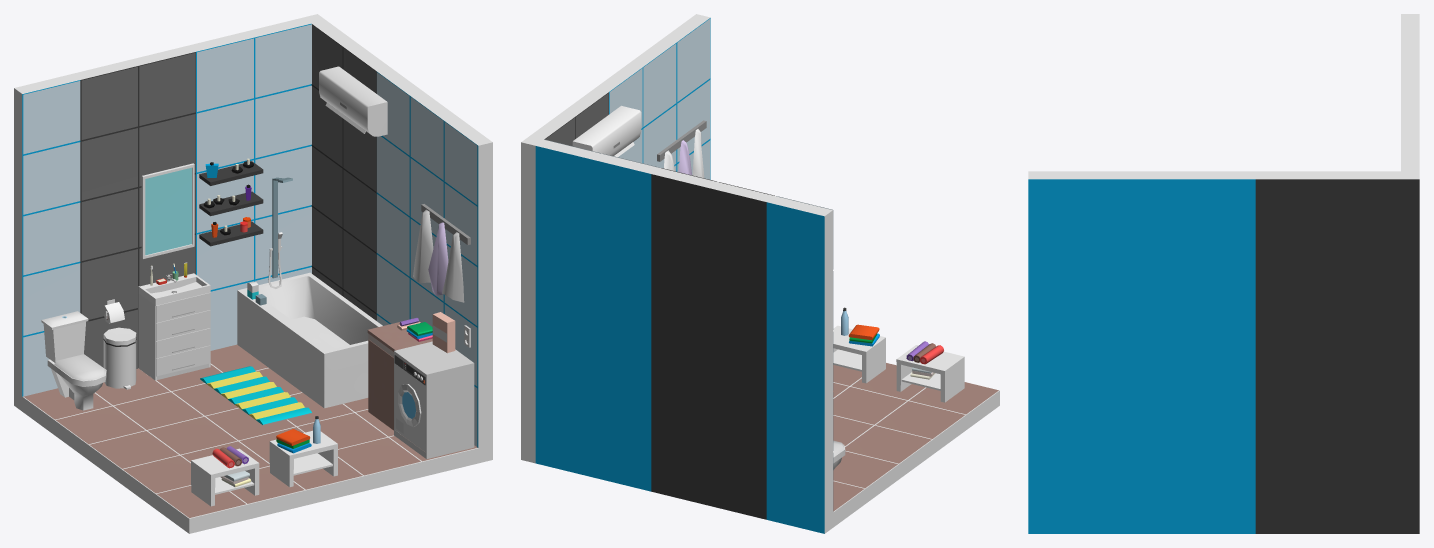
File: room_7.glb
The picture shows the model from 3 angles, left to right: view 1: azimuth 30°, elevation 25°; view 2: azimuth 150°, elevation 25°; view 3: azimuth 270°, elevation 25°; orthographic projection. The views are drawn at different scales.
Visible parts, largest first — view 1: picture_062.001, picture_066.001, bathroom_item_026.001, picture_062.003, picture_062.002, bathroom_item_019.001, Walls_006.008, picture_066.002, Walls_075.002, picture_062.006, bathroom_item_039.001, picture_066.004 (+39 smaller); view 2: Walls_075.001, Walls_011.001, Walls_075.003, Walls_011.002, picture_062.004, picture_062.005, Walls_006.008, Walls_075.002, shelf_067.001, electronics_027.002, carpet_016.006, carpet_016.011 (+9 smaller); view 3: Walls_075.002, Walls_011.002, Walls_011.001, Walls_075.001, Walls_075.003.
Boxes of the visible parts, x1,y1,x2,y2 form: picture_062.001: [23, 81, 80, 396]; picture_066.001: [81, 67, 137, 368]; bathroom_item_026.001: [237, 177, 382, 408]; picture_062.003: [255, 24, 311, 284]; picture_062.002: [197, 38, 253, 350]; bathroom_item_019.001: [394, 312, 474, 459]; Walls_006.008: [22, 363, 478, 533]; picture_066.002: [139, 52, 195, 286]; Walls_075.002: [376, 68, 492, 463]; picture_062.006: [376, 72, 409, 325]; bathroom_item_039.001: [138, 262, 210, 380]; picture_066.004: [312, 25, 342, 295]; Walls_075.001: [535, 140, 658, 491]; Walls_011.001: [651, 168, 774, 519]; Walls_075.003: [766, 196, 832, 533]; Walls_011.002: [521, 88, 608, 463]; picture_062.004: [677, 19, 710, 179]; picture_062.005: [643, 43, 676, 171]; Walls_006.008: [833, 377, 999, 527]; Walls_075.002: [595, 14, 710, 179]; shelf_067.001: [896, 345, 964, 402]; electronics_027.002: [572, 105, 641, 157]; carpet_016.006: [875, 401, 964, 438]; carpet_016.011: [845, 425, 931, 463]; Walls_075.002: [1028, 171, 1255, 533]; Walls_011.002: [1255, 171, 1419, 533]; Walls_011.001: [1401, 45, 1419, 108]; Walls_075.001: [1401, 108, 1419, 171]; Walls_075.003: [1401, 14, 1419, 45].
Bounding box in the file's own units: 4.2 × 4.2 × 4.2.
1 material, 1 textured.
